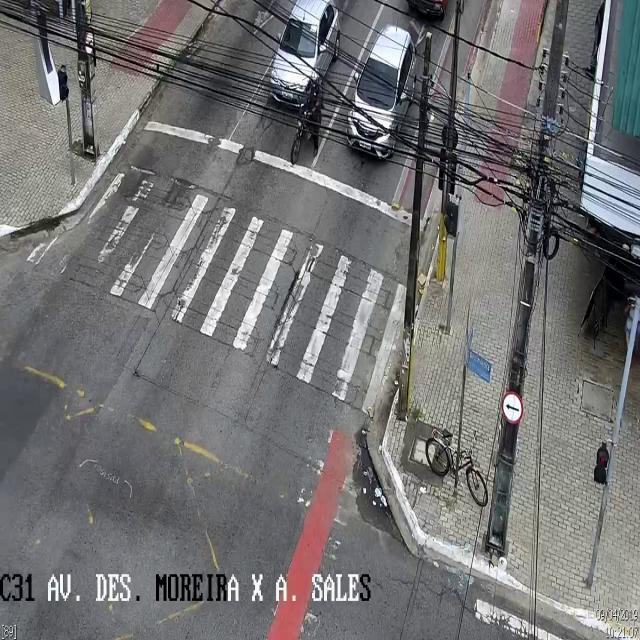Car: (346, 23, 416, 158), (269, 1, 339, 109)
Motorcycle: (289, 70, 323, 164)
